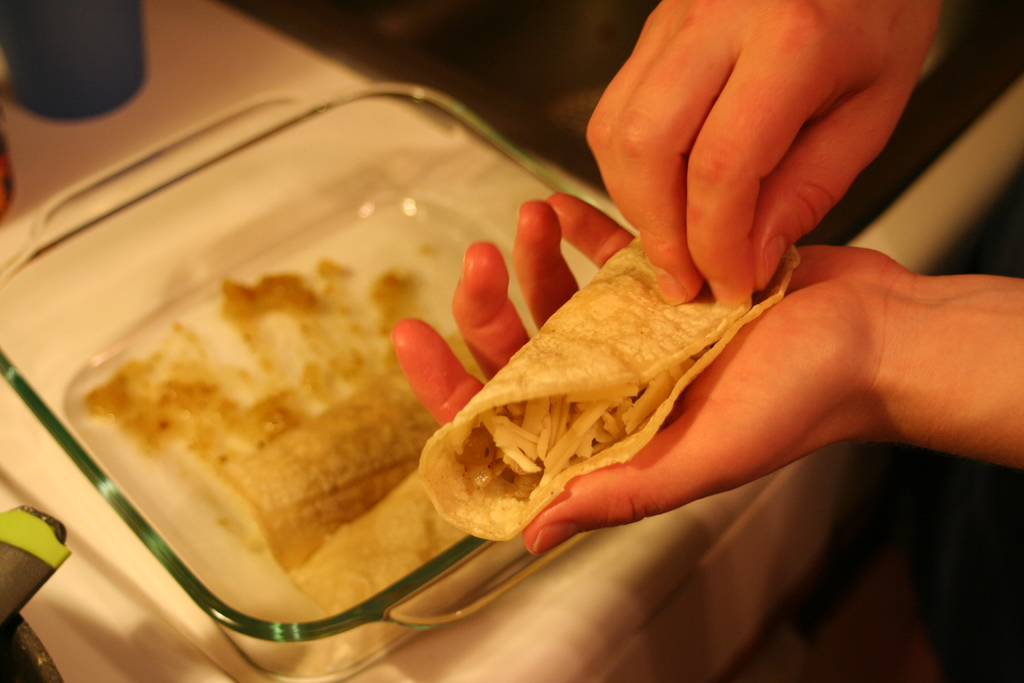Human_hand: (390, 185, 886, 560), (555, 3, 961, 311)
